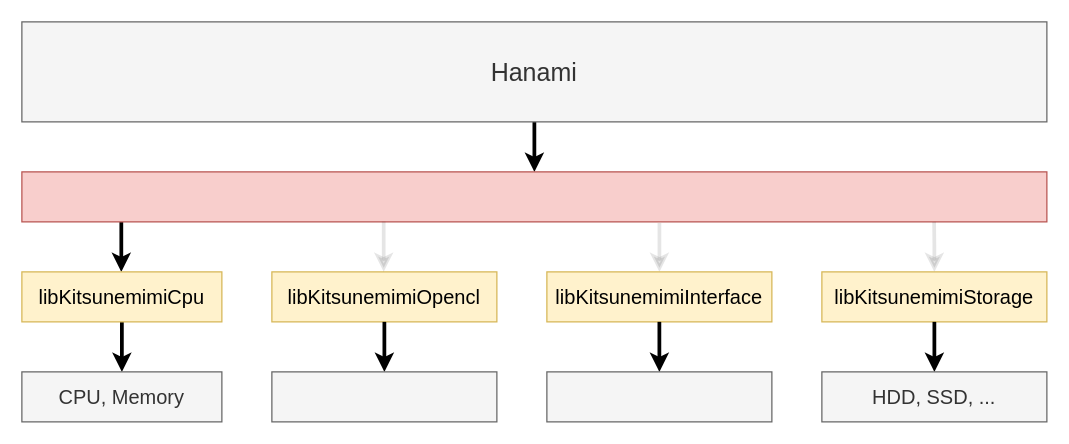
Image size: 1069x444. Some labels were removed from this diagram. Here are the shapes that lost their labels. From the top down, the centre of each, then its label:
the point at 534,196: libKitsunemimiSakuraHardware
the point at 384,396: GPU
the point at 659,396: Network-interfaces
